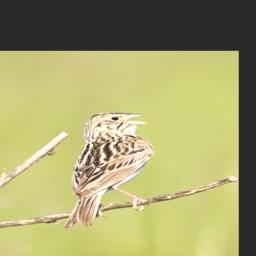Sparrow: (62, 110, 156, 231)
